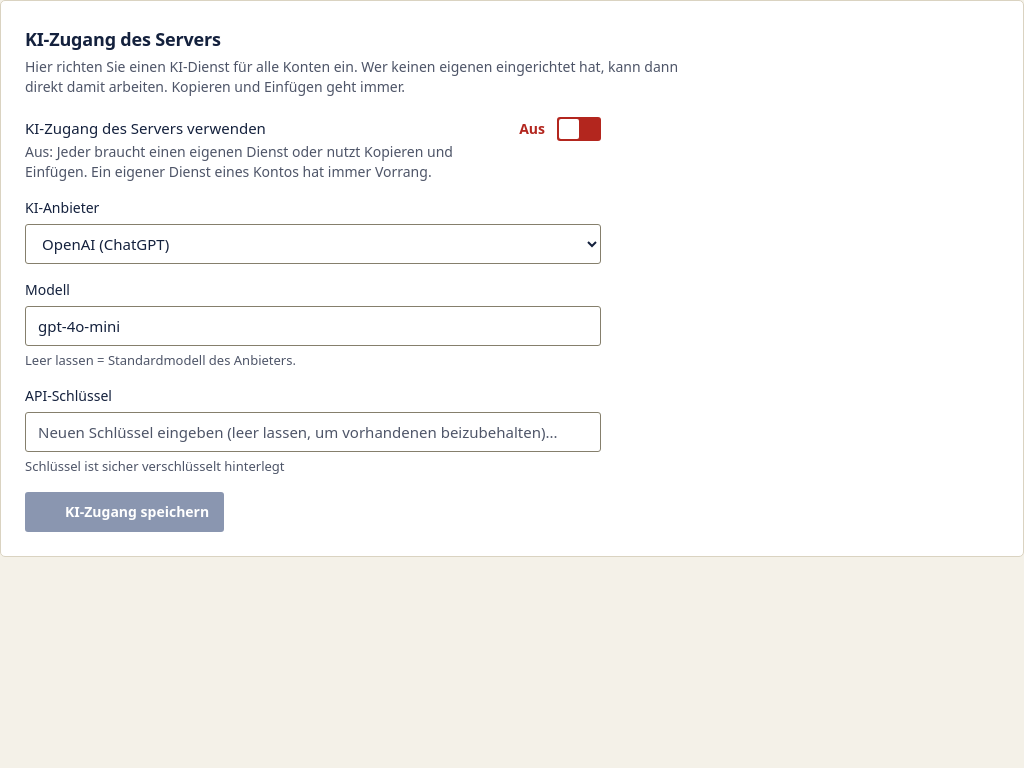
Test: AI access of the server (administration) › asks for the password again before saving and sends it with the change
The width and height of the screenshot is (1024, 768).
Click the switch named "KI-Zugang des Servers verwenden": (579, 129) [557,117,601,141]
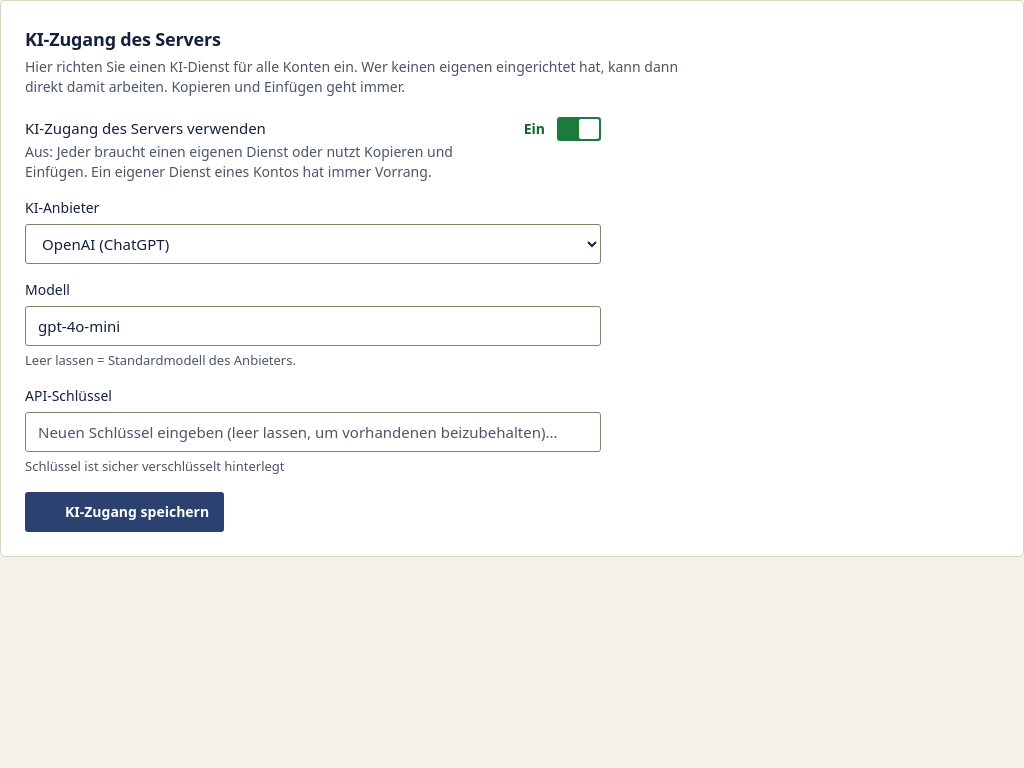
In the password field labelled "API-Schlüssel": (313, 432) [25,412,601,452], type "sk-server-key"
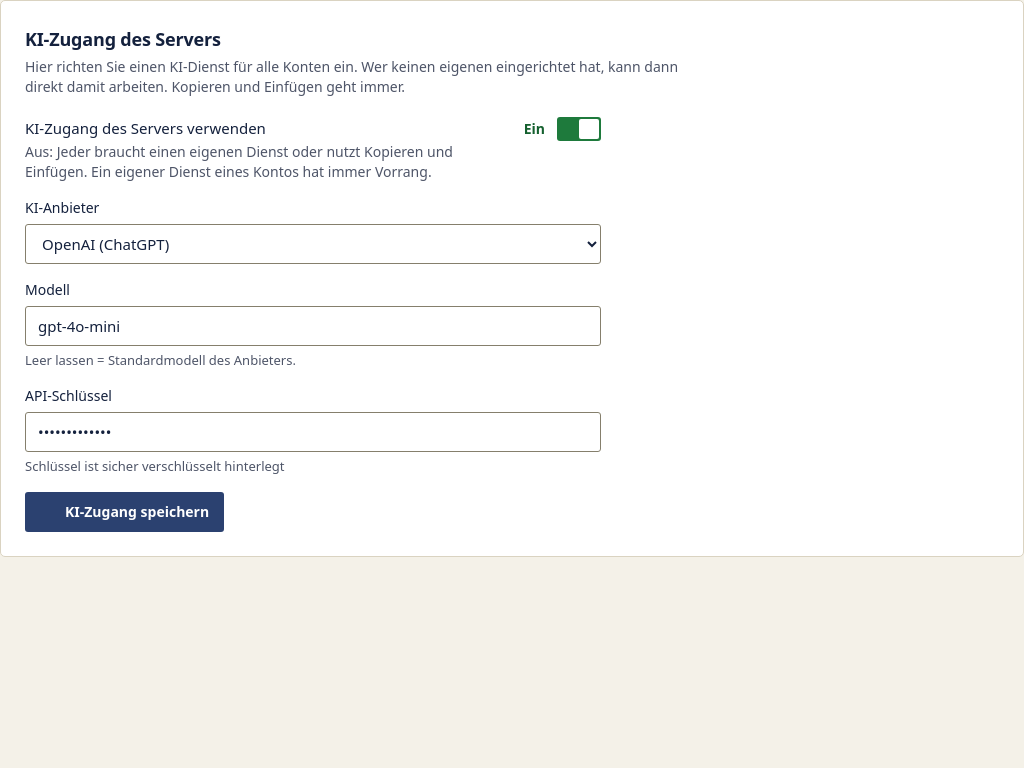
Click the button "undefined KI-Zugang speichern": (125, 512) [25,492,224,532]
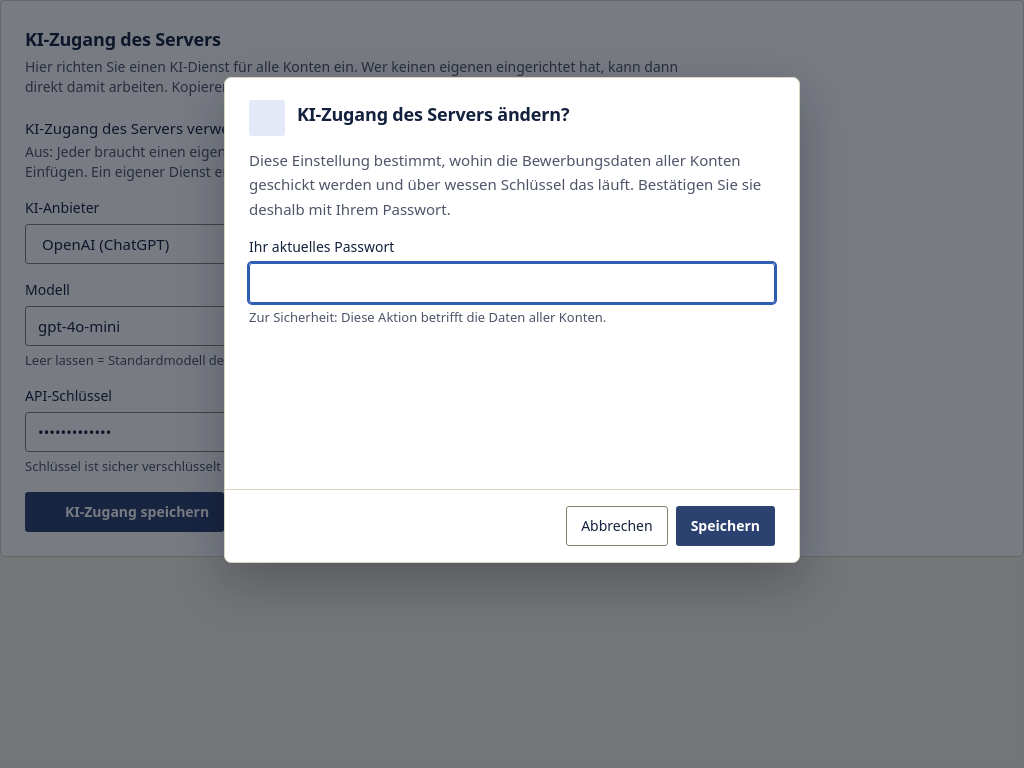
In the password field labelled "Ihr aktuelles Passwort": (512, 283) [249,263,775,303], type "secret-password-1"
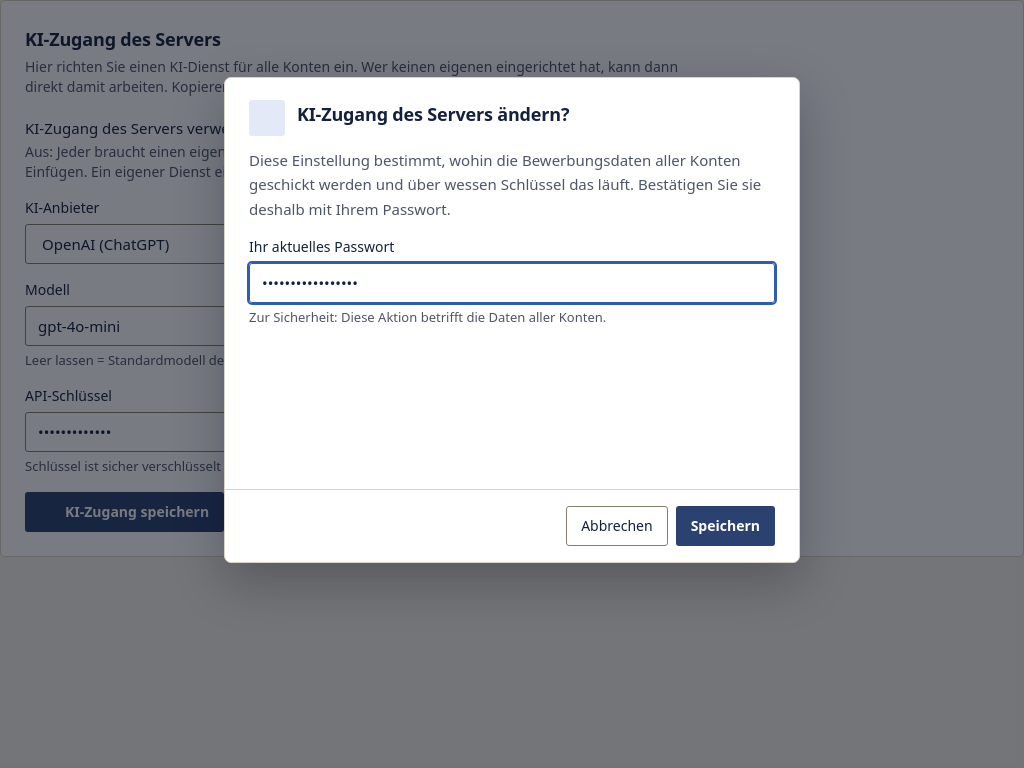
Click the button with test id "reauth-confirm": (725, 526) [676,506,775,546]
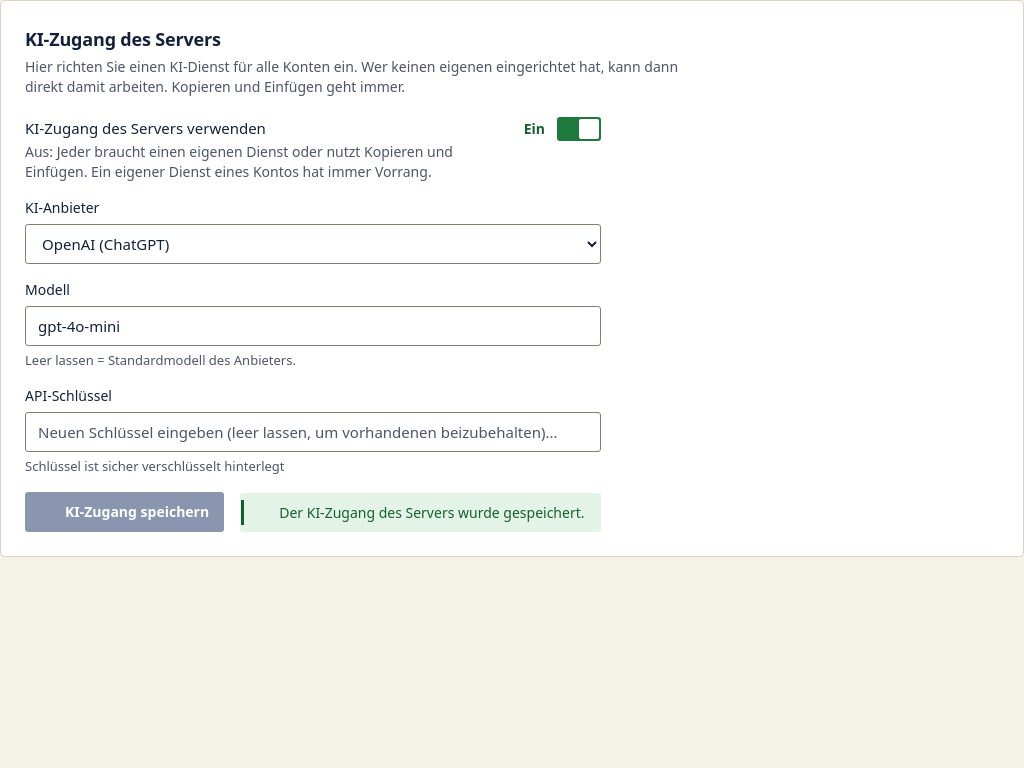
Expected: the text "Der KI-Zugang des Servers wurde gespeichert." is shown, [279,502,588,523]
Expected: the password field labelled "API-Schlüssel" is empty, [25,412,601,452]
